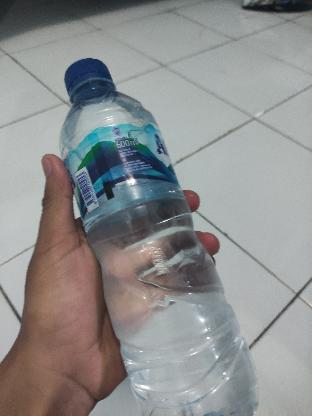Plastic Bottle: (62, 56, 266, 416)
